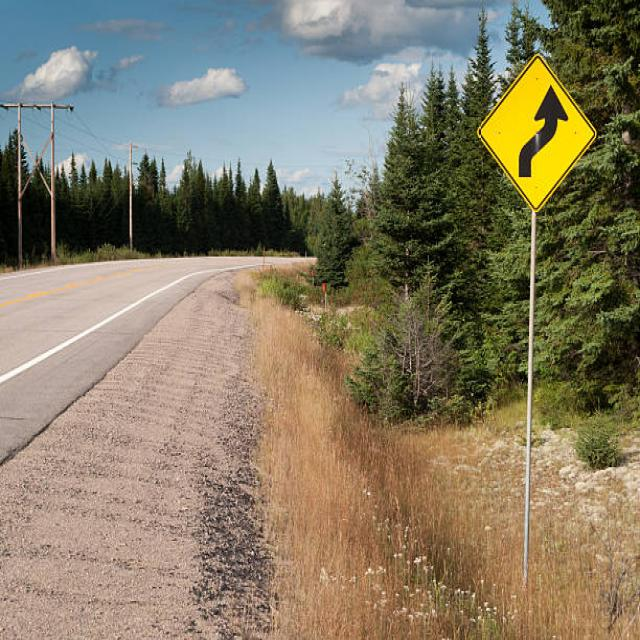left_sharp_curve: (457, 40, 603, 214)
